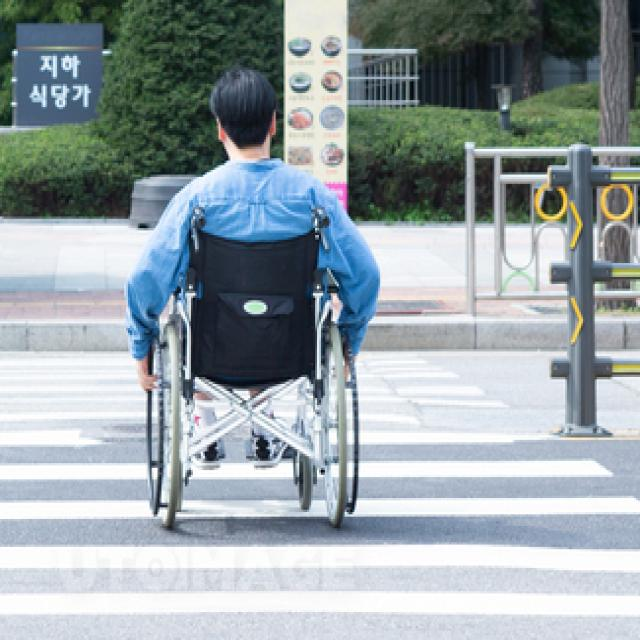wheelchair: (125, 71, 382, 526)
